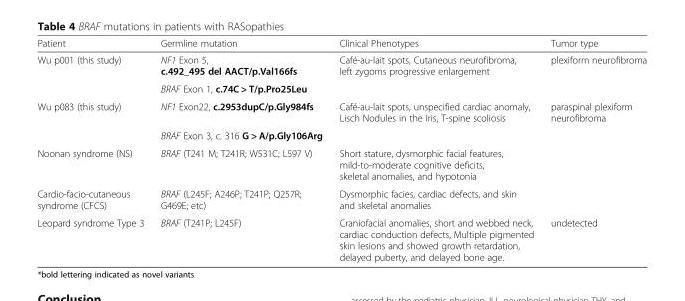table: (36, 37, 646, 262)
table column: (330, 37, 541, 262), (151, 37, 330, 262), (36, 37, 151, 262), (541, 37, 646, 262)
table column header: (36, 37, 646, 51)
table row: (36, 213, 646, 262), (36, 144, 646, 184), (36, 97, 646, 126), (36, 184, 646, 213), (36, 51, 646, 79), (36, 79, 646, 97), (36, 126, 646, 144), (36, 37, 646, 51)
table spanning cell: (36, 97, 151, 144), (36, 51, 151, 97)
